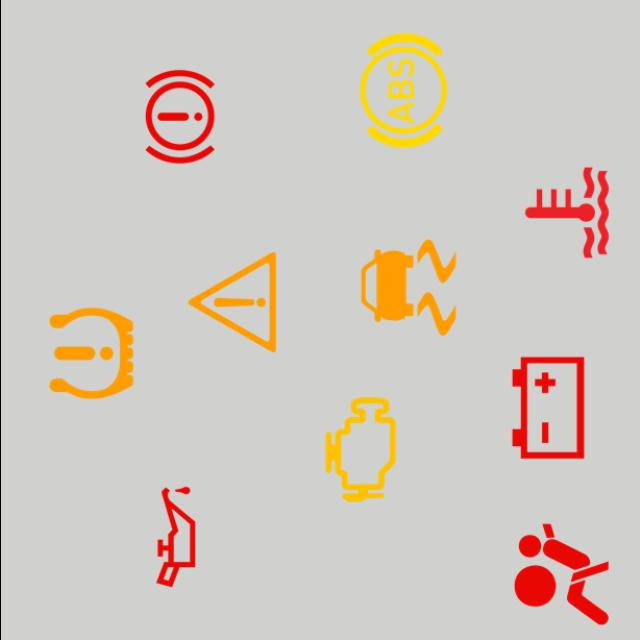Anti Lock Braking System: (340, 28, 465, 153)
Braking System Issue: (117, 54, 242, 179)
Charging System Issue: (484, 345, 610, 470)
Check Engine: (297, 387, 422, 512)
Electronic Stability Problem -ESP-: (345, 225, 470, 350)
Engine Overheating Warning Light: (504, 150, 628, 275)
Low Engine Oil Warning Light: (112, 474, 238, 600)
Low Tire Pressure Warning Light: (28, 291, 153, 416)
Master warning light: (169, 240, 294, 365)
SRS-Airbag: (498, 512, 624, 637)
